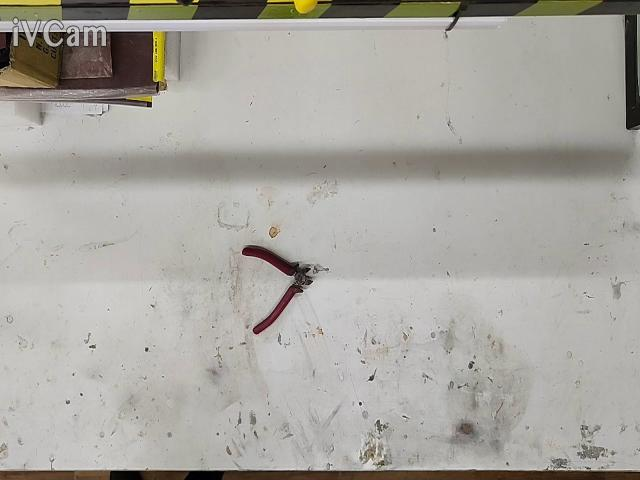Cutting pliers: (242, 247, 313, 334)
